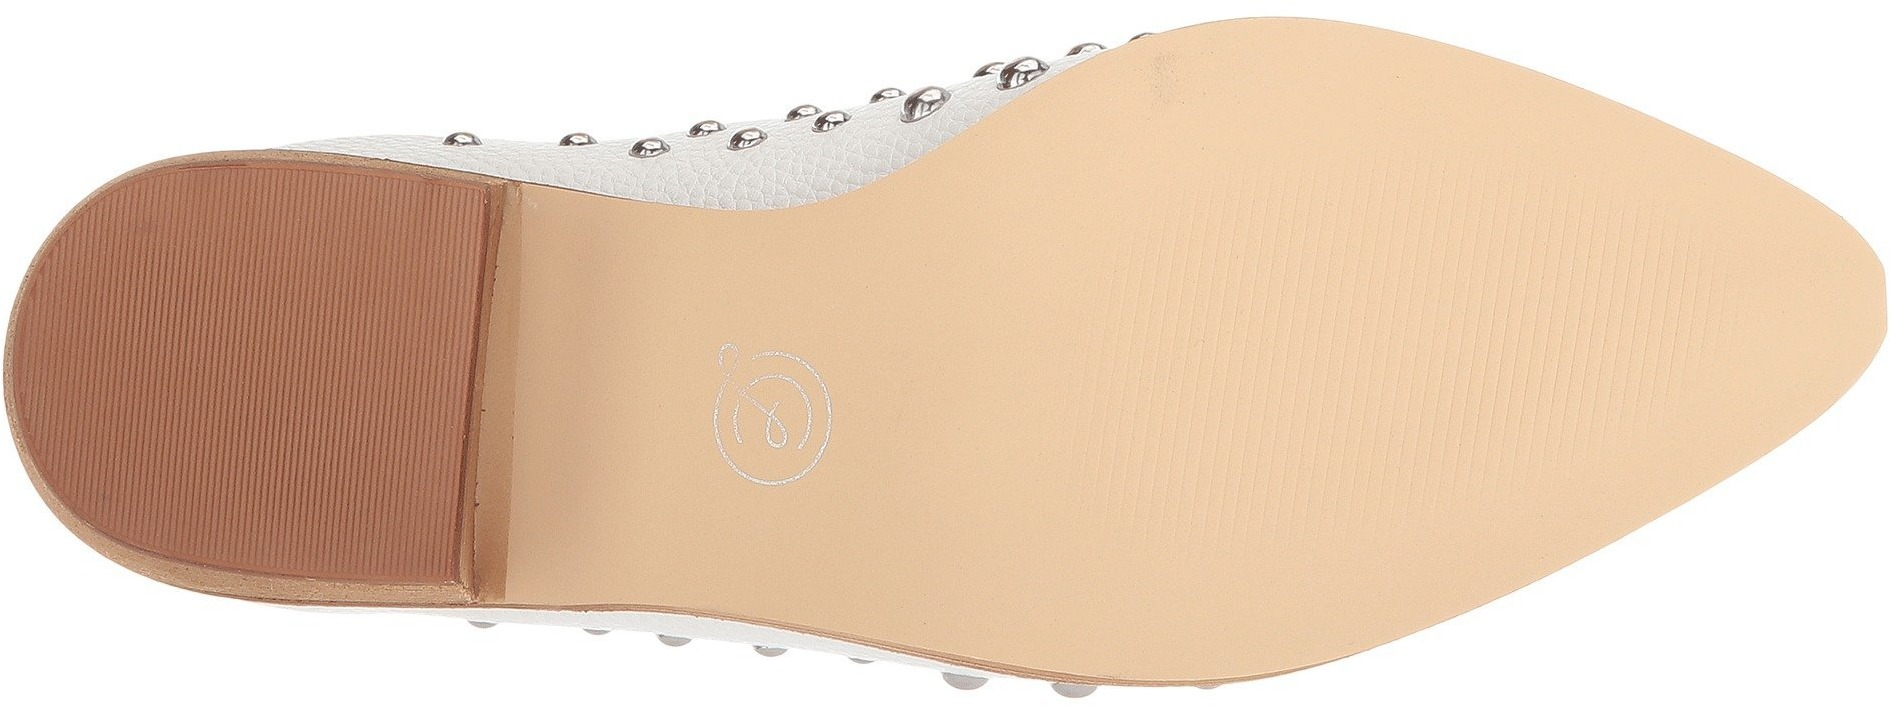exclude: (476, 188, 671, 602)
other: (172, 163, 487, 589), (1110, 200, 1628, 449), (865, 199, 1107, 422), (870, 450, 1090, 646)
text: (699, 294, 860, 500)
